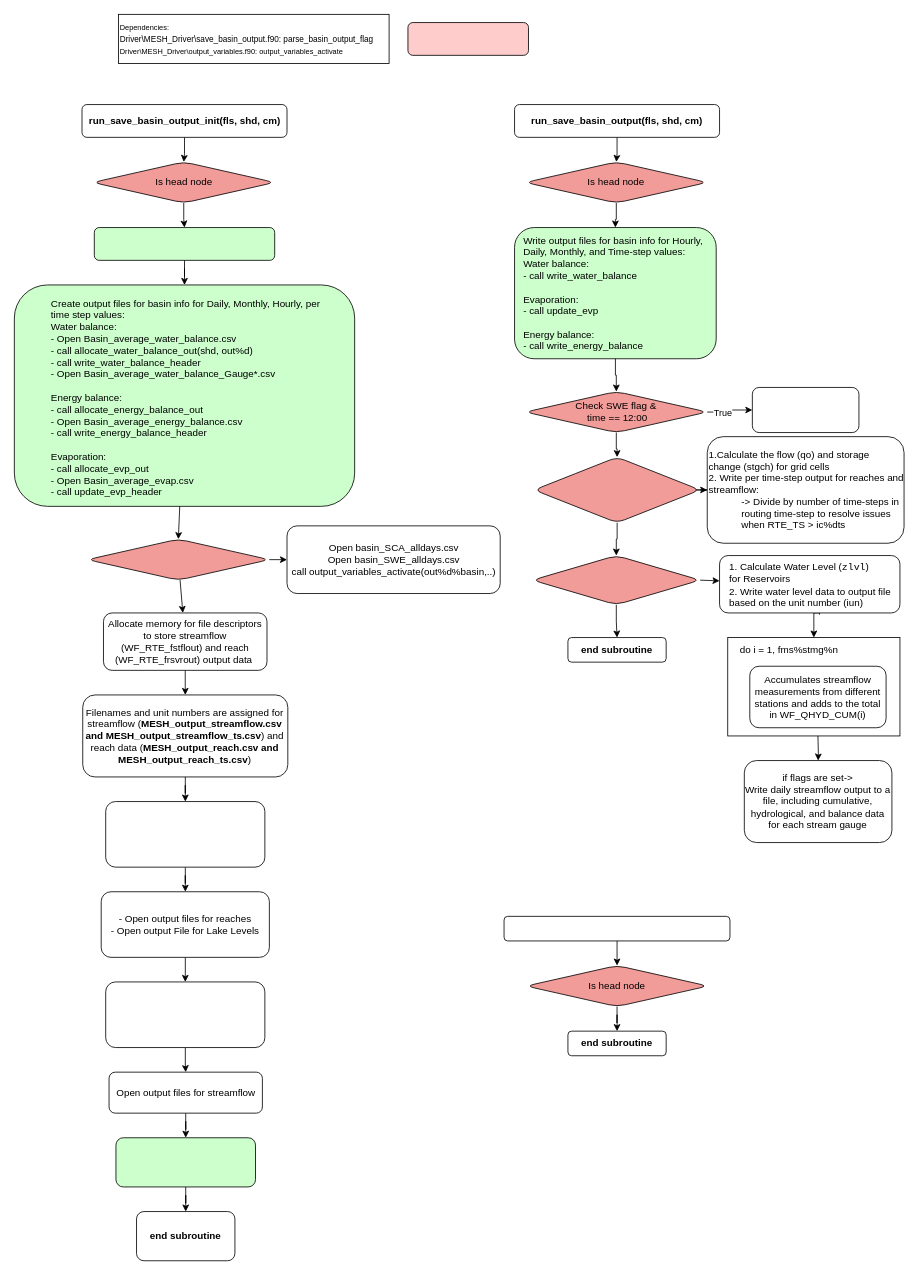
The diagram is 918 pixels wide and 1275 high, and some of its shapes have lost their labels. The centre of each missing label's shape, as x and y in pixels:
!> Allocate output variables call call output_variables_activate: the point at 185,1162
!> Parse output file flags. call parse_basin_output_flag x 4: the point at 184,243
Check for the Last Time-Step of the Day: the point at 616,580
if (btest(bnoflg%swe%t, 0)): the point at 178,559
Parses the REACHOUTFLAG and adjusts output frequency for reaches output: the point at 185,834
Parses the STREAMFLOWOUTFLAG and adjusts output frequency for reaches output: the point at 185,1014
ro%RUNCHNL & timestep is multiple of RTE_TS: the point at 616,489
run_save_basin_output_finalize(fls, shd, cm): the point at 616,928
save_basin_output.f90: the point at 467,38
Write specific snow data (fsno and sno) to two files: 85, 86: the point at 805,410
